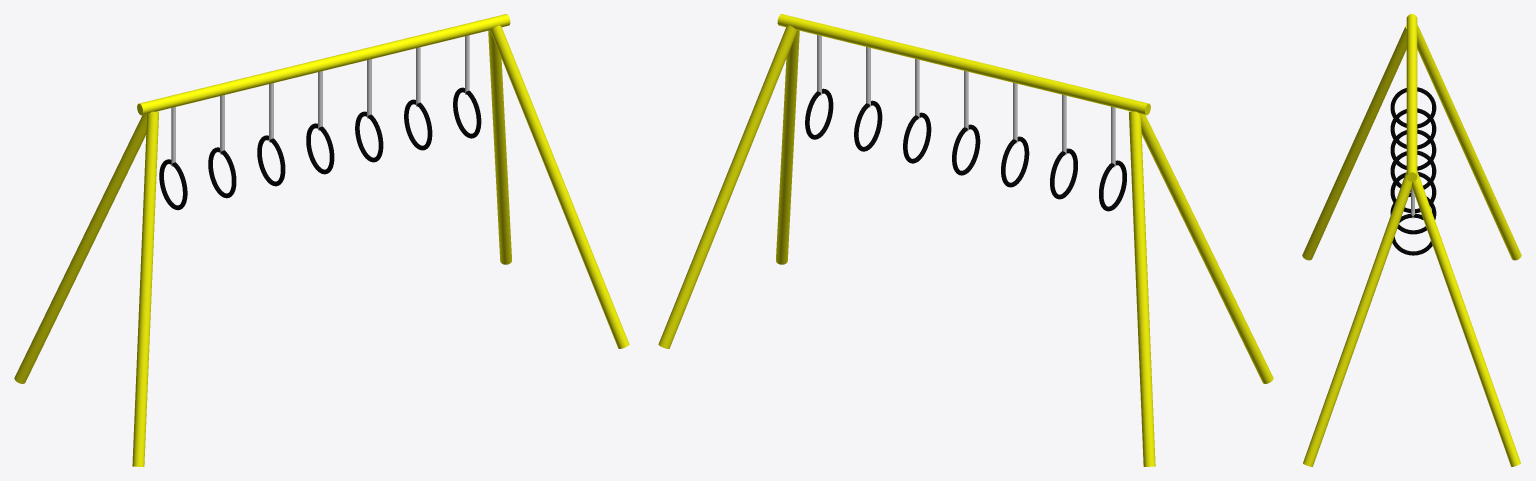
3 views of the same model, side by side, from view 1: azimuth 30°, elevation 25°; view 2: azimuth 150°, elevation 25°; view 3: azimuth 270°, elevation 25° (orthographic). The views are drawn at different scales.
Parts seen in each view (by area): view 1: Symmetry Null_Object1 Cylinder12, Ladder; view 2: Symmetry Null_Object1 Cylinder12, Ladder; view 3: Symmetry Null_Object1 Cylinder12, Ladder.
Boxes of the visible parts, x1=… form: Symmetry Null_Object1 Cylinder12: x1=14, y1=14, x2=629, y2=466; Ladder: x1=159, y1=87, x2=481, y2=210; Symmetry Null_Object1 Cylinder12: x1=658, y1=14, x2=1273, y2=466; Ladder: x1=805, y1=88, x2=1126, y2=211; Symmetry Null_Object1 Cylinder12: x1=1302, y1=14, x2=1521, y2=466; Ladder: x1=1390, y1=87, x2=1436, y2=255.
Bounding box in the file's own units: 243 × 105 × 144.
